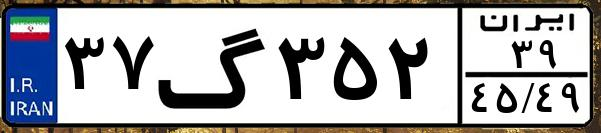2: (385, 28, 445, 110)
3: (270, 28, 330, 110), (57, 26, 110, 100), (508, 27, 537, 80)
4: (470, 70, 495, 125), (535, 70, 560, 125)
5: (330, 28, 385, 110), (495, 70, 520, 125)
7: (110, 28, 156, 98)
9: (560, 70, 590, 125), (537, 27, 568, 80)
گ: (156, 12, 270, 120)
